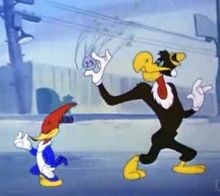picapau: (15, 93, 80, 190)
urubu: (88, 29, 212, 186)
